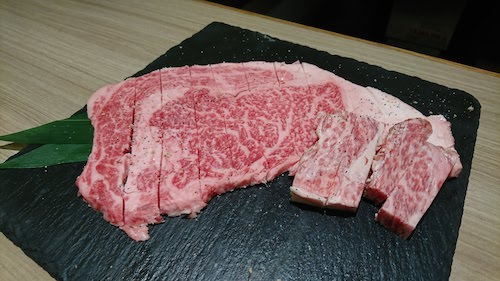meat: (76, 61, 463, 242)
